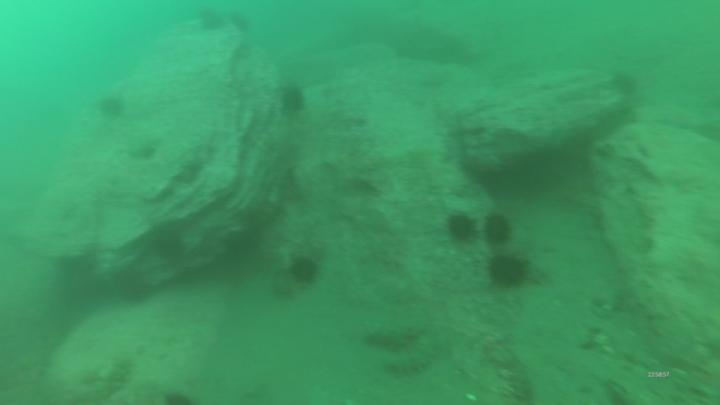echinus: (492, 255, 524, 289), (292, 260, 317, 287), (488, 215, 510, 242), (451, 216, 474, 239), (285, 89, 304, 111), (98, 99, 120, 118)
holothurian: (385, 354, 440, 377), (364, 330, 423, 350)
